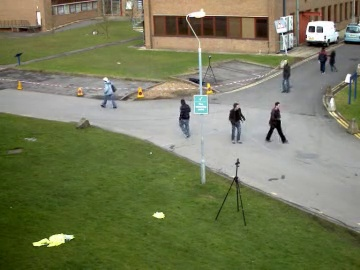person: (265, 100, 284, 142), (266, 101, 284, 144), (101, 78, 116, 108)
